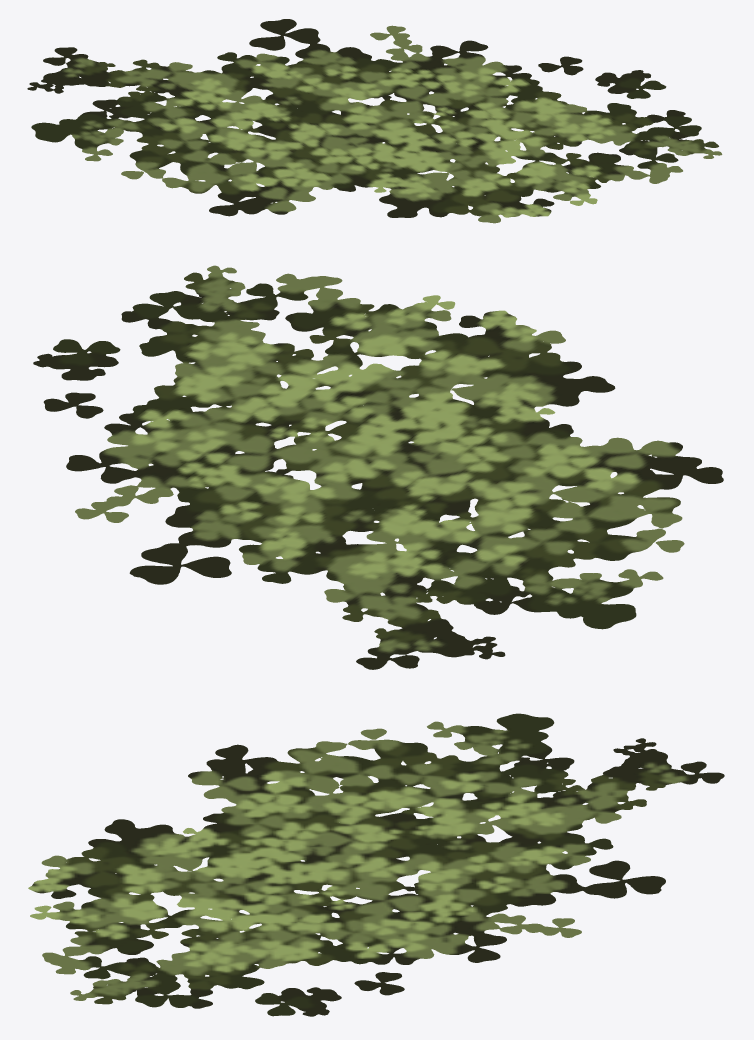
File: hp_clovers.glb
3 renders of one model, top to bottom at view 1: azimuth 30°, elevation 25°; view 2: azimuth 150°, elevation 25°; view 3: azimuth 270°, elevation 25°, orthographic. The views are drawn at different scales.
Parts seen in each view (by area): view 1: _MeshInstance3D_11; view 2: _MeshInstance3D_11; view 3: _MeshInstance3D_11.
Boxes of the visible parts, x1,y1,x2,y2 form: _MeshInstance3D_11: [27, 19, 722, 223]; _MeshInstance3D_11: [33, 265, 723, 669]; _MeshInstance3D_11: [28, 713, 724, 1016].
Size of the model in its own units: 10.22 by 0 by 9.78.
1 material, 1 textured.
